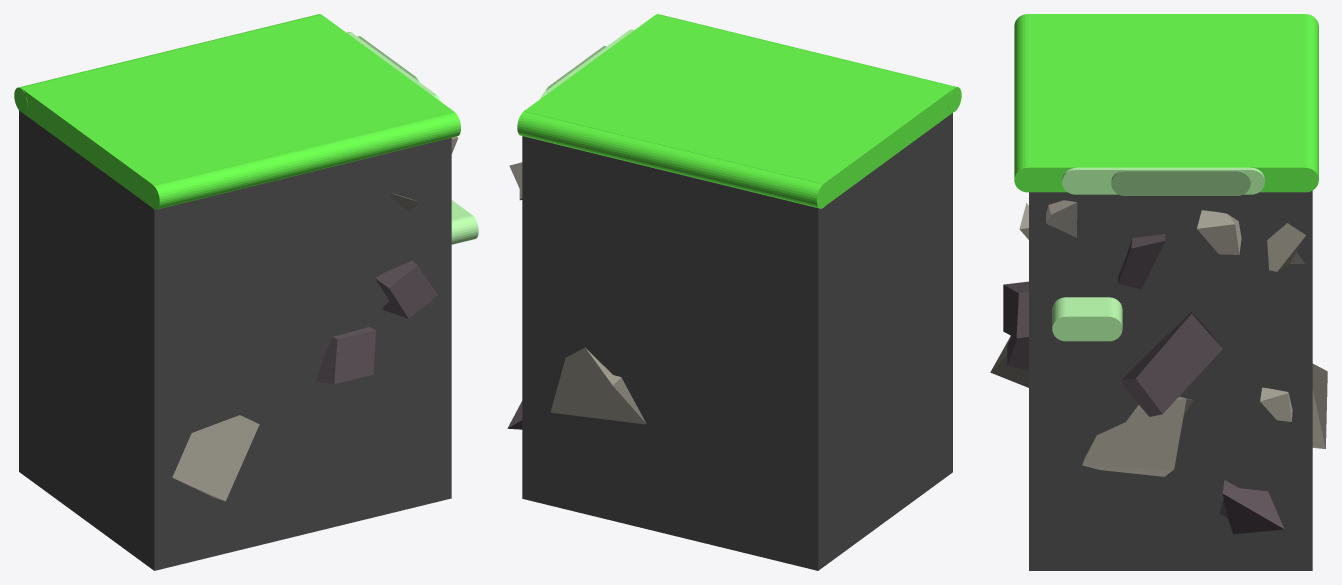
The model's file is 2.5D地形背景02.fbx.
The picture shows the model from 3 angles, left to right: view 1: azimuth 30°, elevation 25°; view 2: azimuth 150°, elevation 25°; view 3: azimuth 270°, elevation 25°; orthographic projection. The views are drawn at different scales.
Visible parts, largest first — view 1: Cube, 円柱.001, 立方体.014, 立方体.011, 立方体.013, 立方体.002; view 2: Cube, 円柱.001, 立方体.015; view 3: Cube, 円柱.001, 立方体.007, 立方体.009, 円柱.005, 立方体.002, 立方体.010, 立方体.001, 立方体.005, 立方体.004, 立方体.013, 立方体.006 (+5 smaller).
Part boxes in pixels (x1=…): Cube: x1=19, y1=110, x2=451, y2=570; 円柱.001: x1=14, y1=14, x2=460, y2=209; 立方体.014: x1=119, y1=415, x2=259, y2=501; 立方体.011: x1=316, y1=327, x2=375, y2=383; 立方体.013: x1=375, y1=260, x2=437, y2=318; 立方体.002: x1=451, y1=200, x2=478, y2=244; Cube: x1=522, y1=113, x2=952, y2=570; 円柱.001: x1=517, y1=14, x2=961, y2=208; 立方体.015: x1=550, y1=347, x2=646, y2=424; Cube: x1=1029, y1=190, x2=1312, y2=570; 円柱.001: x1=1014, y1=14, x2=1318, y2=192; 立方体.007: x1=1121, y1=312, x2=1222, y2=416; 立方体.009: x1=1082, y1=396, x2=1193, y2=476; 円柱.005: x1=1111, y1=170, x2=1250, y2=195; 立方体.002: x1=1052, y1=297, x2=1122, y2=341; 立方体.010: x1=1219, y1=480, x2=1284, y2=534; 立方体.001: x1=1062, y1=167, x2=1264, y2=194; 立方体.005: x1=1118, y1=234, x2=1165, y2=289; 立方体.004: x1=1197, y1=210, x2=1241, y2=254; 立方体.013: x1=1003, y1=281, x2=1028, y2=338; 立方体.006: x1=1267, y1=223, x2=1305, y2=271.
Size of the model in its own units: 1223 by 1313 by 993.
